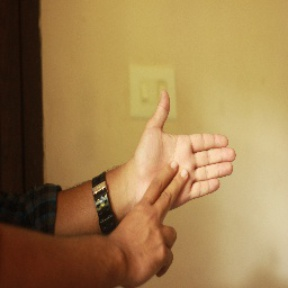N: (115, 88, 237, 279)
